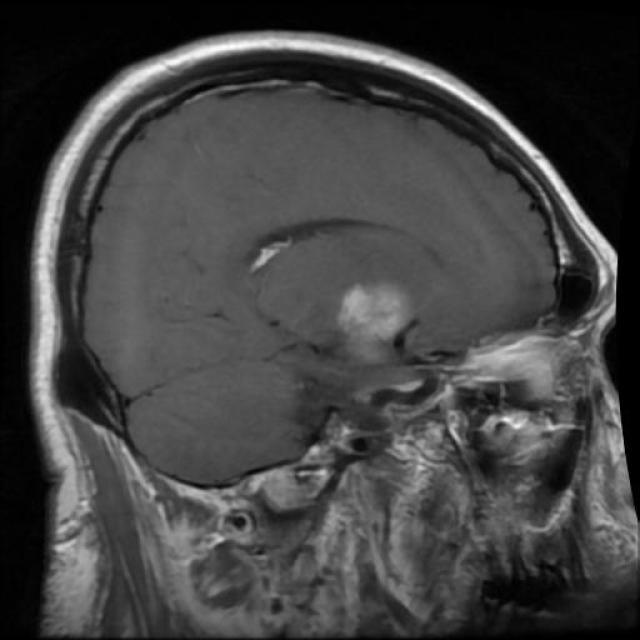pituitary: (328, 273, 433, 402)
